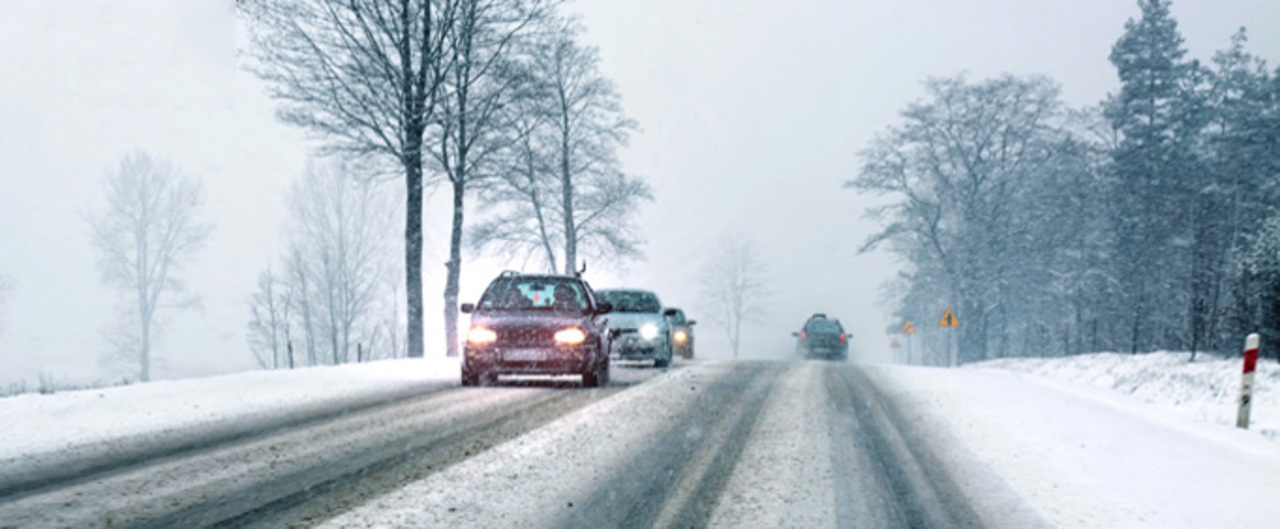car: (454, 272, 616, 390), (595, 285, 681, 368), (795, 312, 849, 360), (664, 305, 699, 357)
